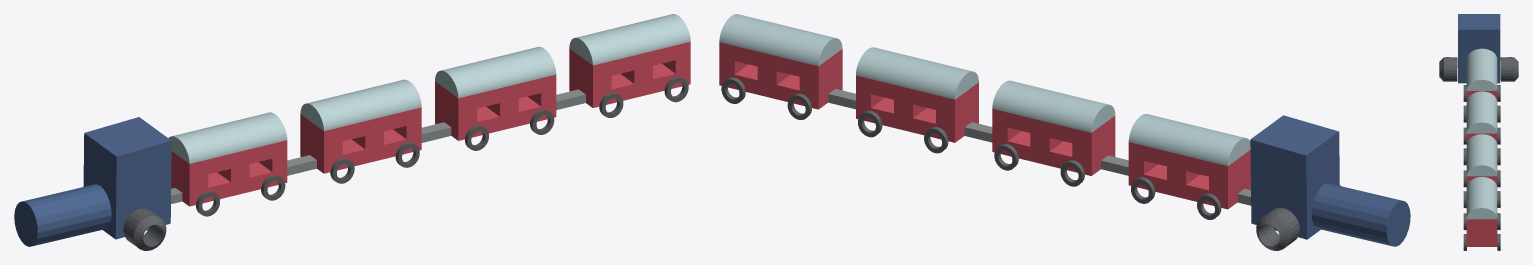
Rendered from Smooth Snicket-Crift.glb.
The picture shows the model from 3 angles, left to right: view 1: azimuth 30°, elevation 25°; view 2: azimuth 150°, elevation 25°; view 3: azimuth 270°, elevation 25°; orthographic projection. The views are drawn at different scales.
Parts seen in each view (by area): view 1: Mesh_Mesh_head_geo.001_lambert2SG.001; view 2: Mesh_Mesh_head_geo.001_lambert2SG.001; view 3: Mesh_Mesh_head_geo.001_lambert2SG.001.
Boxes of the visible parts, left/top/right/bottom form: Mesh_Mesh_head_geo.001_lambert2SG.001: left=14, top=14, right=690, bottom=250; Mesh_Mesh_head_geo.001_lambert2SG.001: left=719, top=14, right=1410, bottom=250; Mesh_Mesh_head_geo.001_lambert2SG.001: left=1439, top=14, right=1518, bottom=250.
Bounding box in the file's own units: 80.5 × 11 × 12.97.
